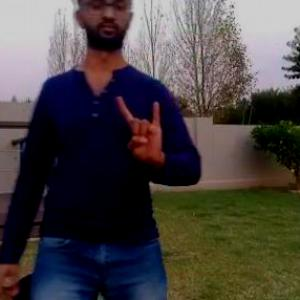takeoff-hand: (114, 87, 168, 175)
